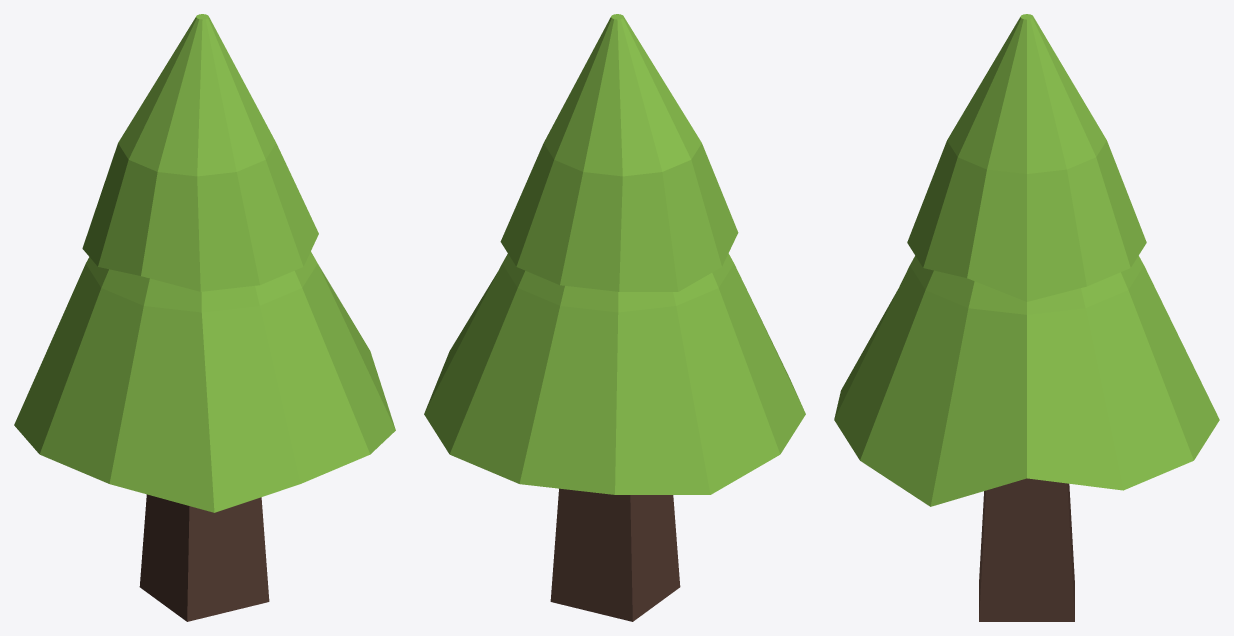
The model's file is tree1.fbx.
3 views of the same model, side by side, from view 1: azimuth 30°, elevation 25°; view 2: azimuth 150°, elevation 25°; view 3: azimuth 270°, elevation 25° (orthographic).
Parts seen in each view (by area): view 1: tree1; view 2: tree1; view 3: tree1.
Part boxes in pixels (x1,y1,x2,y2): tree1: [14, 14, 395, 621]; tree1: [424, 14, 805, 621]; tree1: [834, 14, 1219, 621].
Bounding box in the file's own units: 466 × 779 × 466.
